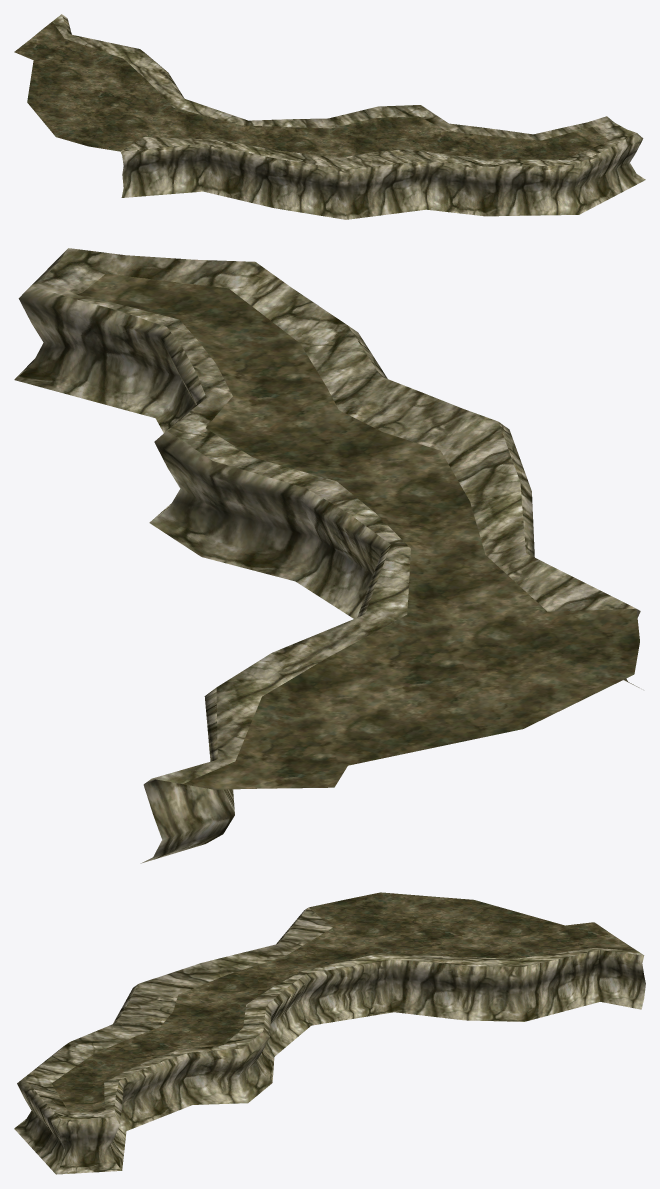
The model's file is CB_NEWPLAYSURFACE_CB_PLAYSURFACE153.fbx.
3 views of the same model, one above another, from view 1: azimuth 30°, elevation 25°; view 2: azimuth 150°, elevation 25°; view 3: azimuth 270°, elevation 25° (orthographic). The views are drawn at different scales.
Visible parts, largest first — view 1: CB_NEWPLAYSURFACE_CB_PLAYSURFACE153; view 2: CB_NEWPLAYSURFACE_CB_PLAYSURFACE153; view 3: CB_NEWPLAYSURFACE_CB_PLAYSURFACE153.
Boxes of the visible parts, bbox=[...] form: CB_NEWPLAYSURFACE_CB_PLAYSURFACE153: bbox=[14, 14, 645, 219]; CB_NEWPLAYSURFACE_CB_PLAYSURFACE153: bbox=[14, 248, 640, 863]; CB_NEWPLAYSURFACE_CB_PLAYSURFACE153: bbox=[14, 892, 645, 1174].
Size of the model in its own units: 324382 by 32965 by 366922.
Materials: 3 (3 with a texture image).
